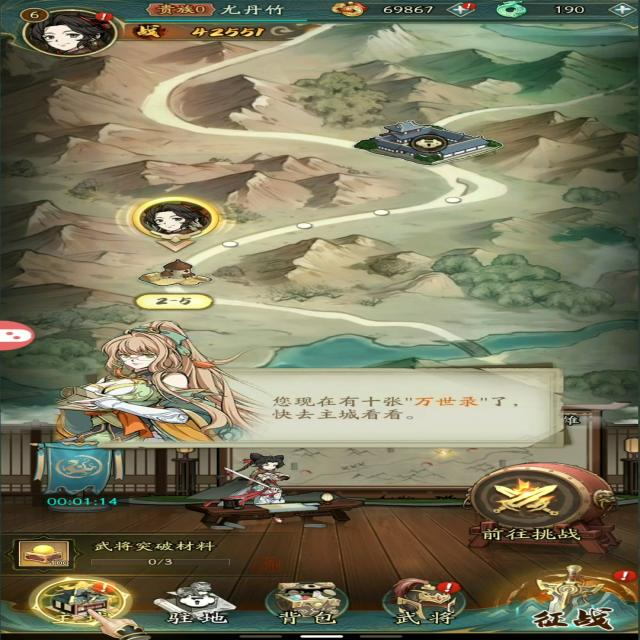hint-guide: (80, 320, 584, 453), (50, 584, 118, 623)
hint-reddot: (438, 580, 460, 593), (611, 570, 634, 582), (95, 10, 112, 24), (459, 2, 482, 11)
navigation-bag: (260, 576, 347, 627)
navigation-fight: (500, 566, 637, 635)
navigation-hero: (380, 573, 472, 626)
navigation-main: (31, 577, 138, 628)
navigation-role: (13, 6, 123, 64)
navigation-station-off: (159, 580, 230, 627)
operation-TaskCollection: (17, 535, 250, 579)
operation-Vip: (141, 2, 214, 20)
operation-deployment: (462, 473, 608, 544)
operation-quickFight: (25, 430, 134, 510)
